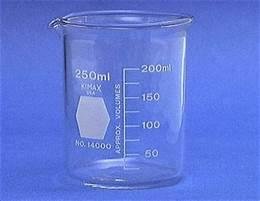Beaker: (42, 5, 193, 195)
